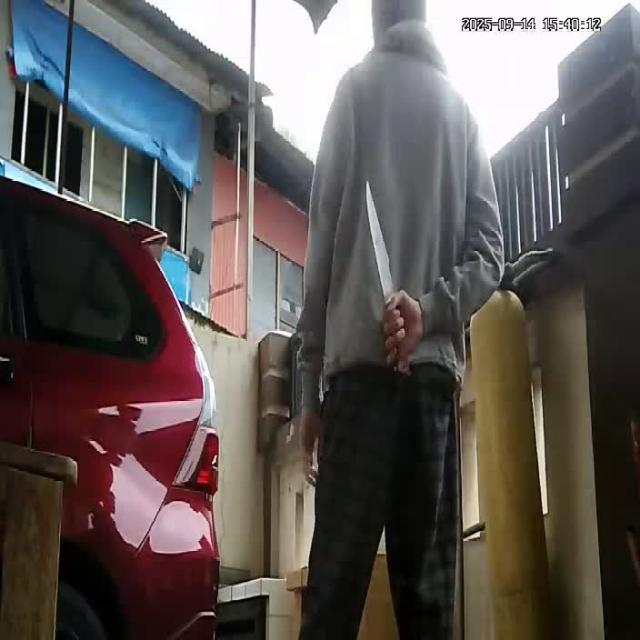senjata_tajam: (364, 178, 396, 307)
